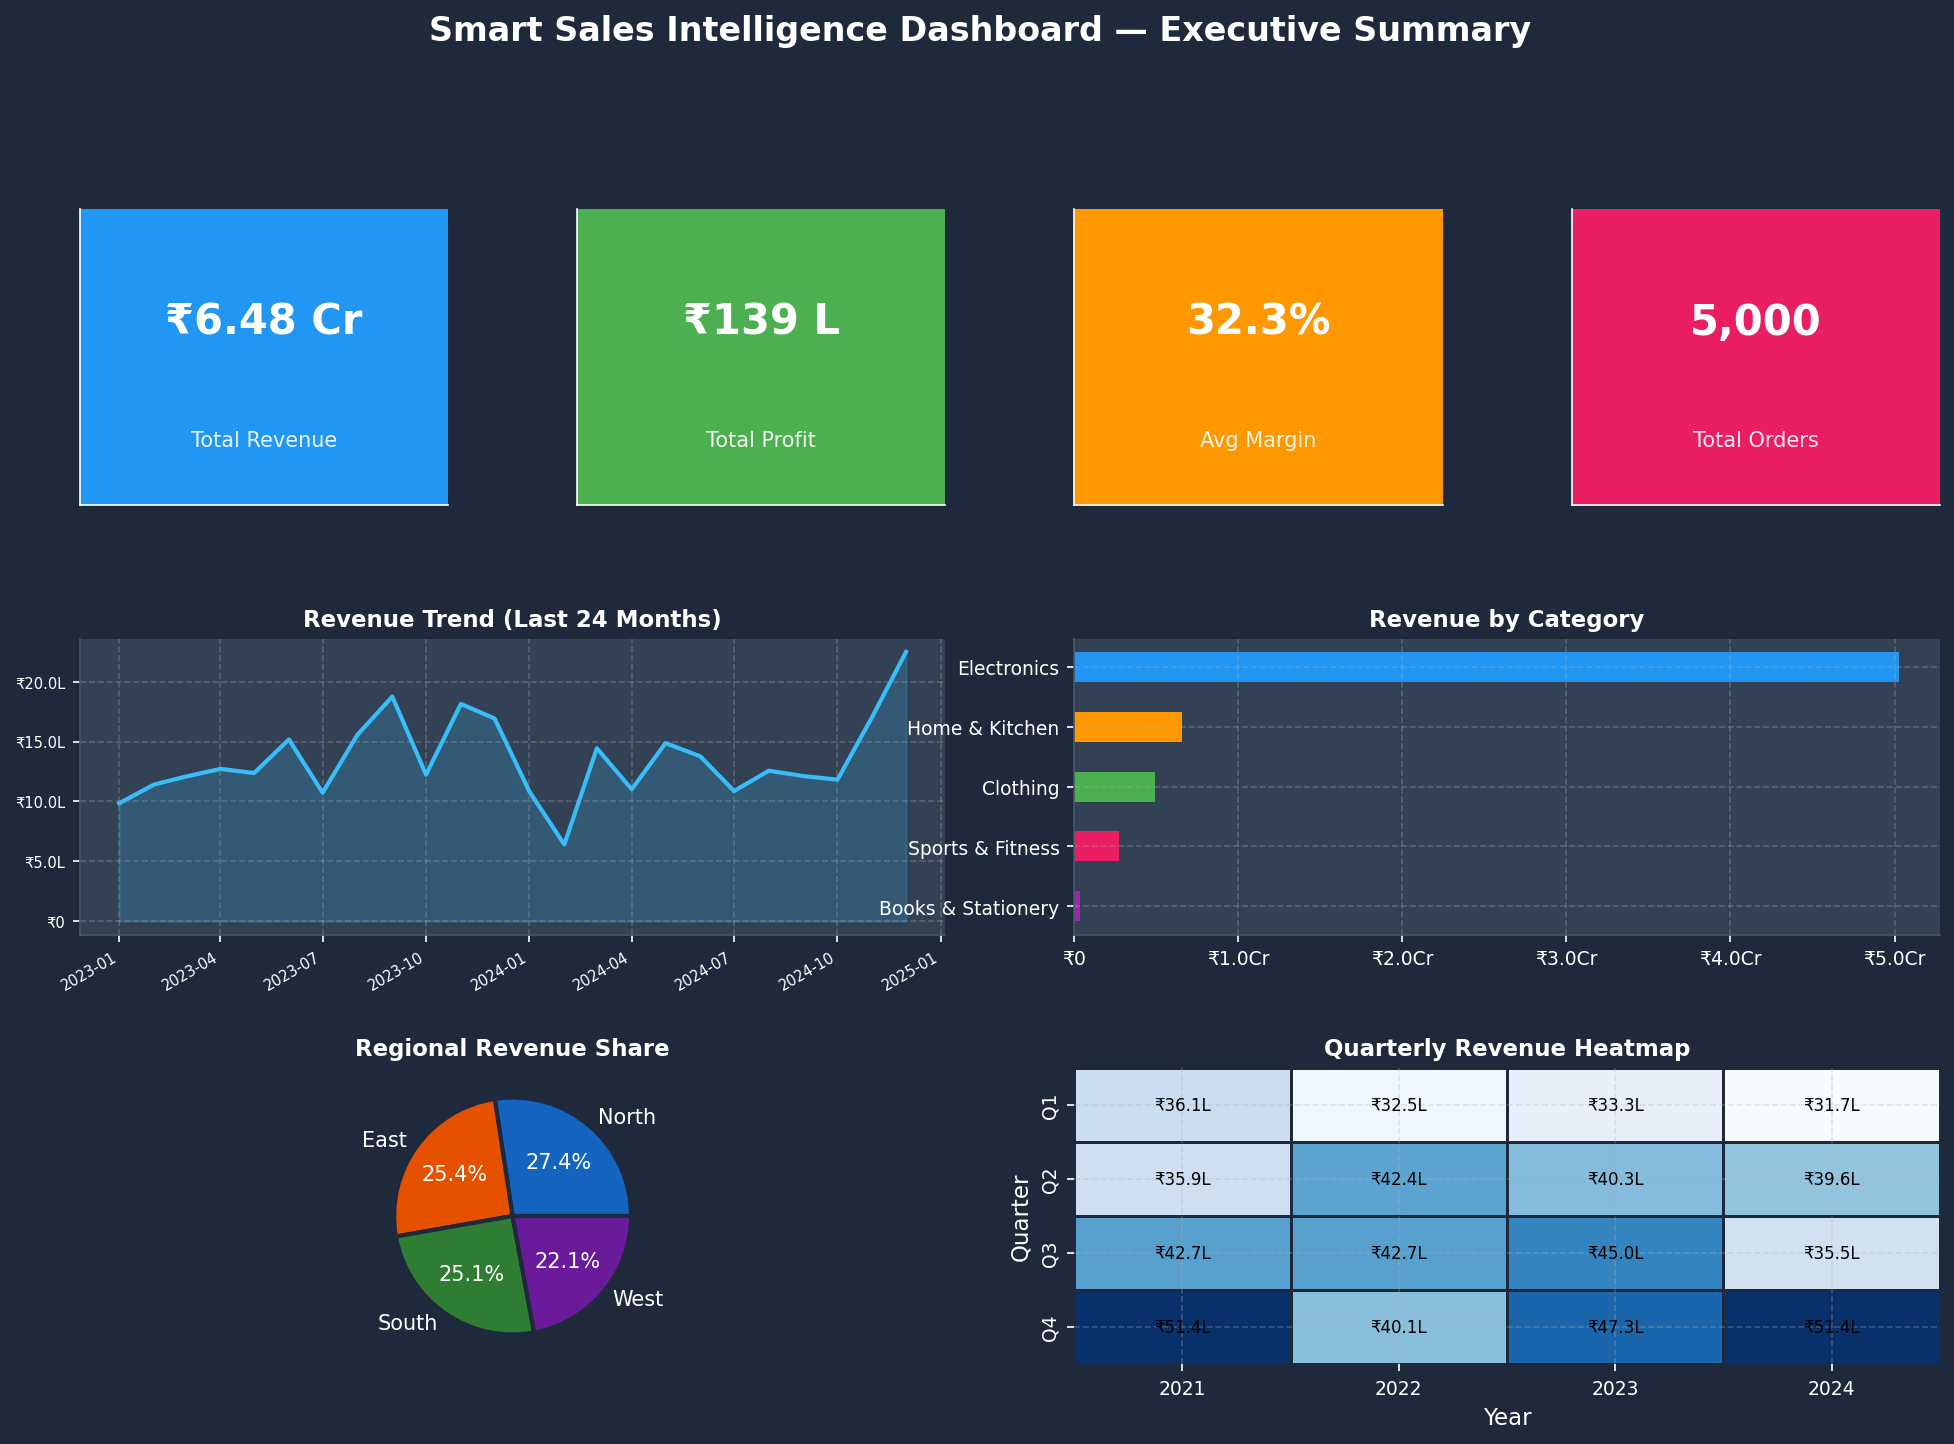

Layout of this report page (visuals, bound fields, positions):
{"tool":"powerbi","page":{"name":"Page 1","canvas":[1280,720],"ordinal":0},"visuals":[{"type":"card","fields":{"Values":["_Measures.Total Revenue"]},"box":[313.3,48.3,150,110],"z":0},{"type":"card","fields":{"Values":["_Measures.Total Profit"]},"box":[463.3,48.3,150,110],"z":1000},{"type":"card","fields":{"Values":["_Measures.Profit Margin %"]},"box":[616.7,48.5,150,110],"z":2000},{"type":"card","fields":{"Values":["_Measures.Total Orders"]},"box":[773.3,48.3,150,110],"z":3000},{"type":"lineChart","title":"Monthly Revenue Trend","fields":{"Category":["dim_date.year_month"],"Y":["_Measures.Total Revenue"]},"box":[174,158,882,300],"z":4000},{"type":"clusteredBarChart","fields":{"Y":["_Measures.Total Revenue"],"Category":["dim_product.category"]},"box":[54,496,518,210],"z":4001},{"type":"donutChart","fields":{"Category":["dim_geography.region"],"Y":["_Measures.Total Revenue"]},"box":[572,496,484,210],"z":4002},{"type":"slicer","fields":{"Values":["dim_date.year"]},"box":[990,28.5,220,150],"z":4003}]}

Visuals, with their boxes on the page's 1280x720 design canvas (x1, y1, x2, y2). These are canvas units, not pixel positions in the 1954x1444 screenshot, which may show the page scaled, cropped or inside an application window:
card - _Measures.Total Revenue: [313,48,463,158]
card - _Measures.Total Profit: [463,48,613,158]
card - _Measures.Profit Margin %: [617,48,767,158]
card - _Measures.Total Orders: [773,48,923,158]
"Monthly Revenue Trend" lineChart: [174,158,1056,458]
clusteredBarChart - _Measures.Total Revenue x dim_product.category: [54,496,572,706]
donutChart - dim_geography.region x _Measures.Total Revenue: [572,496,1056,706]
slicer - dim_date.year: [990,28,1210,178]
